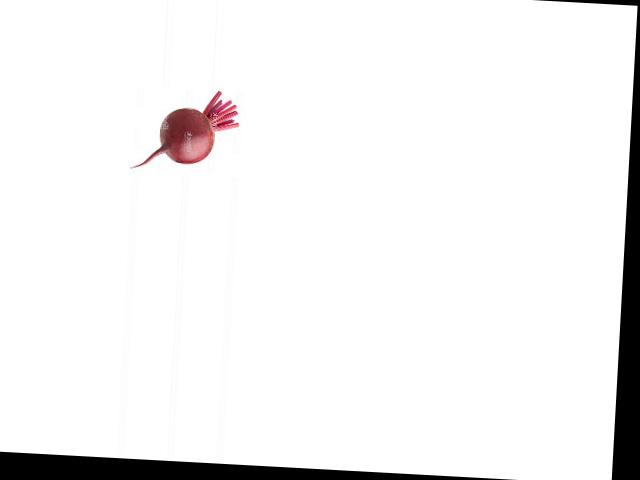beet: (131, 86, 240, 174)
